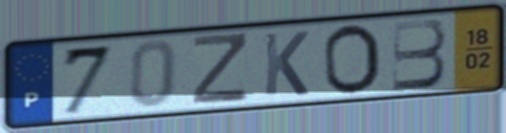0: (125, 37, 181, 112)
7: (56, 44, 118, 117)
B: (390, 16, 450, 93)
K: (261, 29, 311, 99)
O: (321, 22, 384, 97)
Z: (189, 30, 251, 106)
